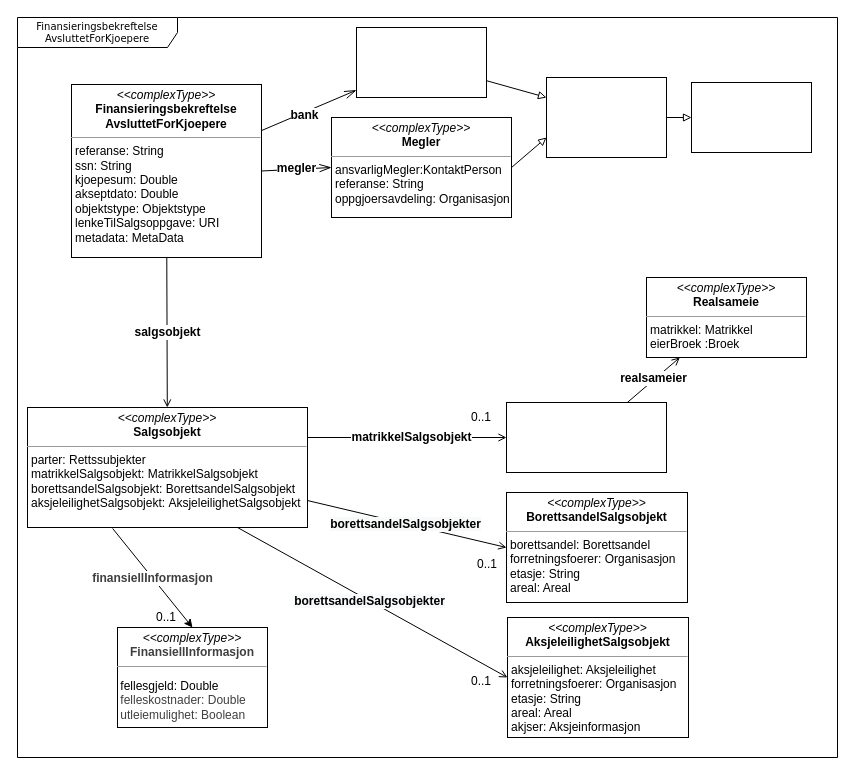
Image size: 855x775. Some labels were removed from this diagram. The shapes that lost their labels are listed below. From the top down, each one's centre as x and y in pixels, then its label:
At point (421, 62): "<<complexType>> Mottaker referanse: String".
At point (606, 117): "<<complexType>> Organisasjon foretaksnavn: String adresse: Adresse".
At point (751, 117): "<<complexType>> Rettssubjekt id: String".
At point (586, 437): "<<complexType>> MatrikkelSalgsobjekt matrikkel: Matrikkel".
